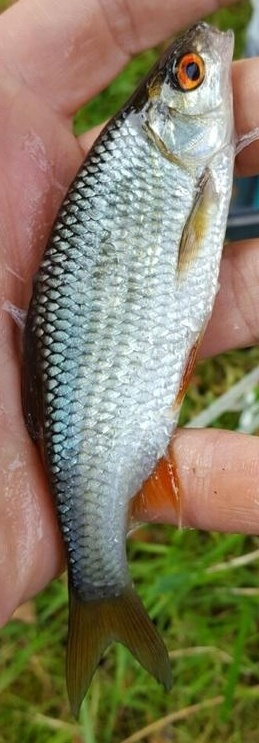Rutilus rutilus: (20, 20, 239, 723)
